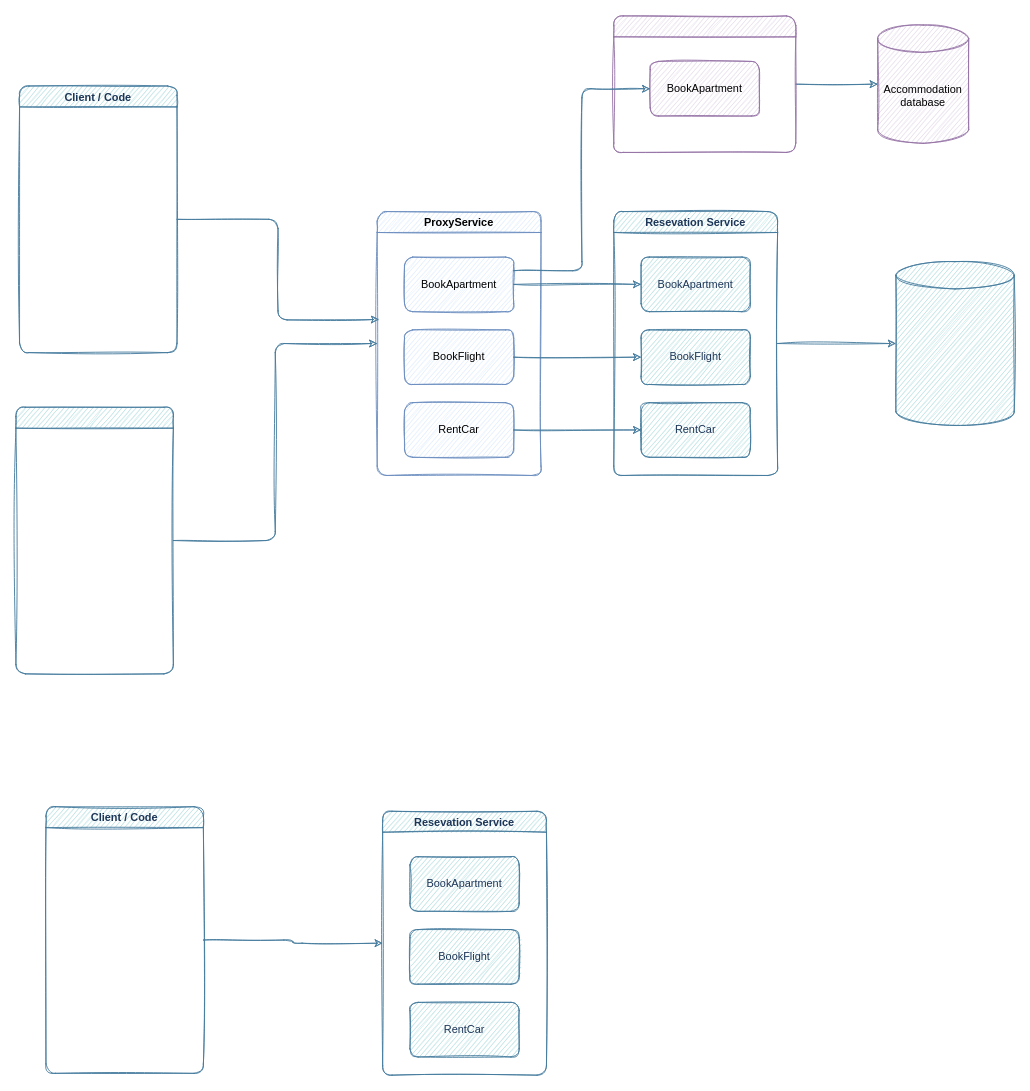
Some shapes in this 1030 by 1091 pixel diagram are drawn without their labels. The box of each missing label's shape, as (x1, y1, x2, y2) in pixels:
Accommodation API: (613, 15, 796, 152)
Shared database: (895, 261, 1014, 425)
Test Suite: (15, 406, 173, 674)
